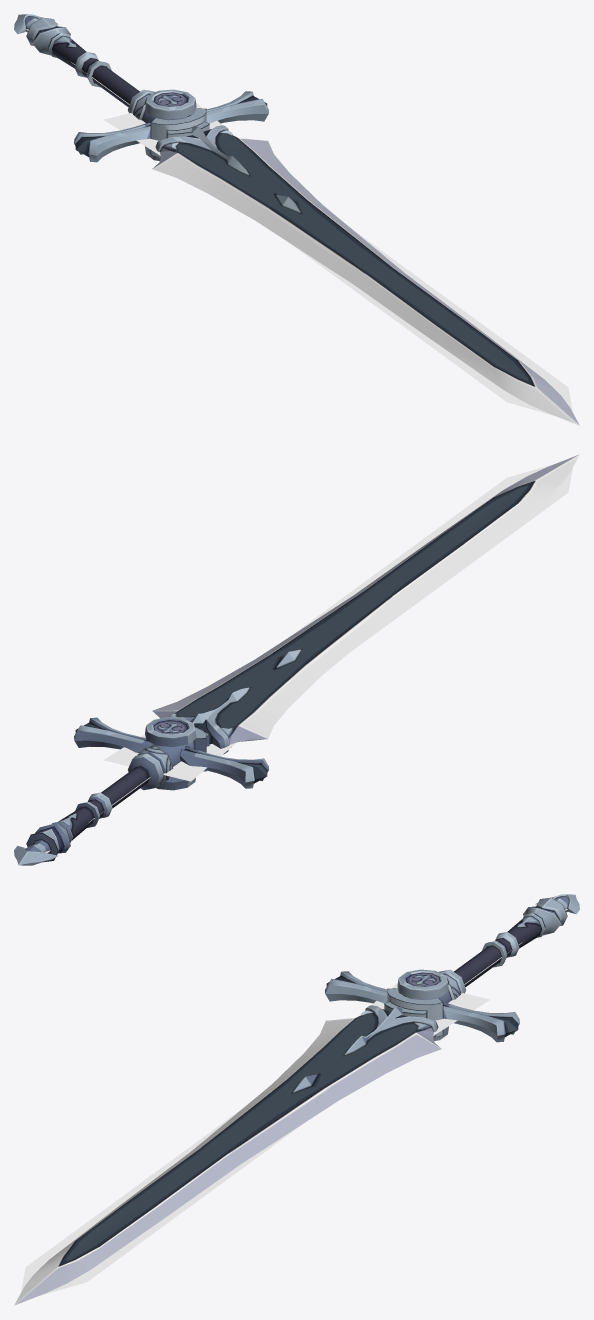
Rendered from Equip_Claymore_Tin.fbx.
3 views of the same model, one above another, from view 1: azimuth 30°, elevation 25°; view 2: azimuth 150°, elevation 25°; view 3: azimuth 330°, elevation 25° (orthographic).
Parts seen in each view (by area): view 1: Equip_Claymore_Tin_Model, Equip_Claymore_Tin_Effect; view 2: Equip_Claymore_Tin_Model, Equip_Claymore_Tin_Effect; view 3: Equip_Claymore_Tin_Model, Equip_Claymore_Tin_Effect.
Part boxes in pixels (x1,y1,x2,y2): Equip_Claymore_Tin_Model: (14,14,579,425); Equip_Claymore_Tin_Effect: (26,29,572,416); Equip_Claymore_Tin_Model: (14,454,579,865); Equip_Claymore_Tin_Effect: (45,463,572,852); Equip_Claymore_Tin_Model: (14,894,579,1305); Equip_Claymore_Tin_Effect: (21,909,567,1296).
Bounding box in the file's own units: 0.3319 × 0.0905 × 1.69.
Materials: 2 (1 with a texture image).
